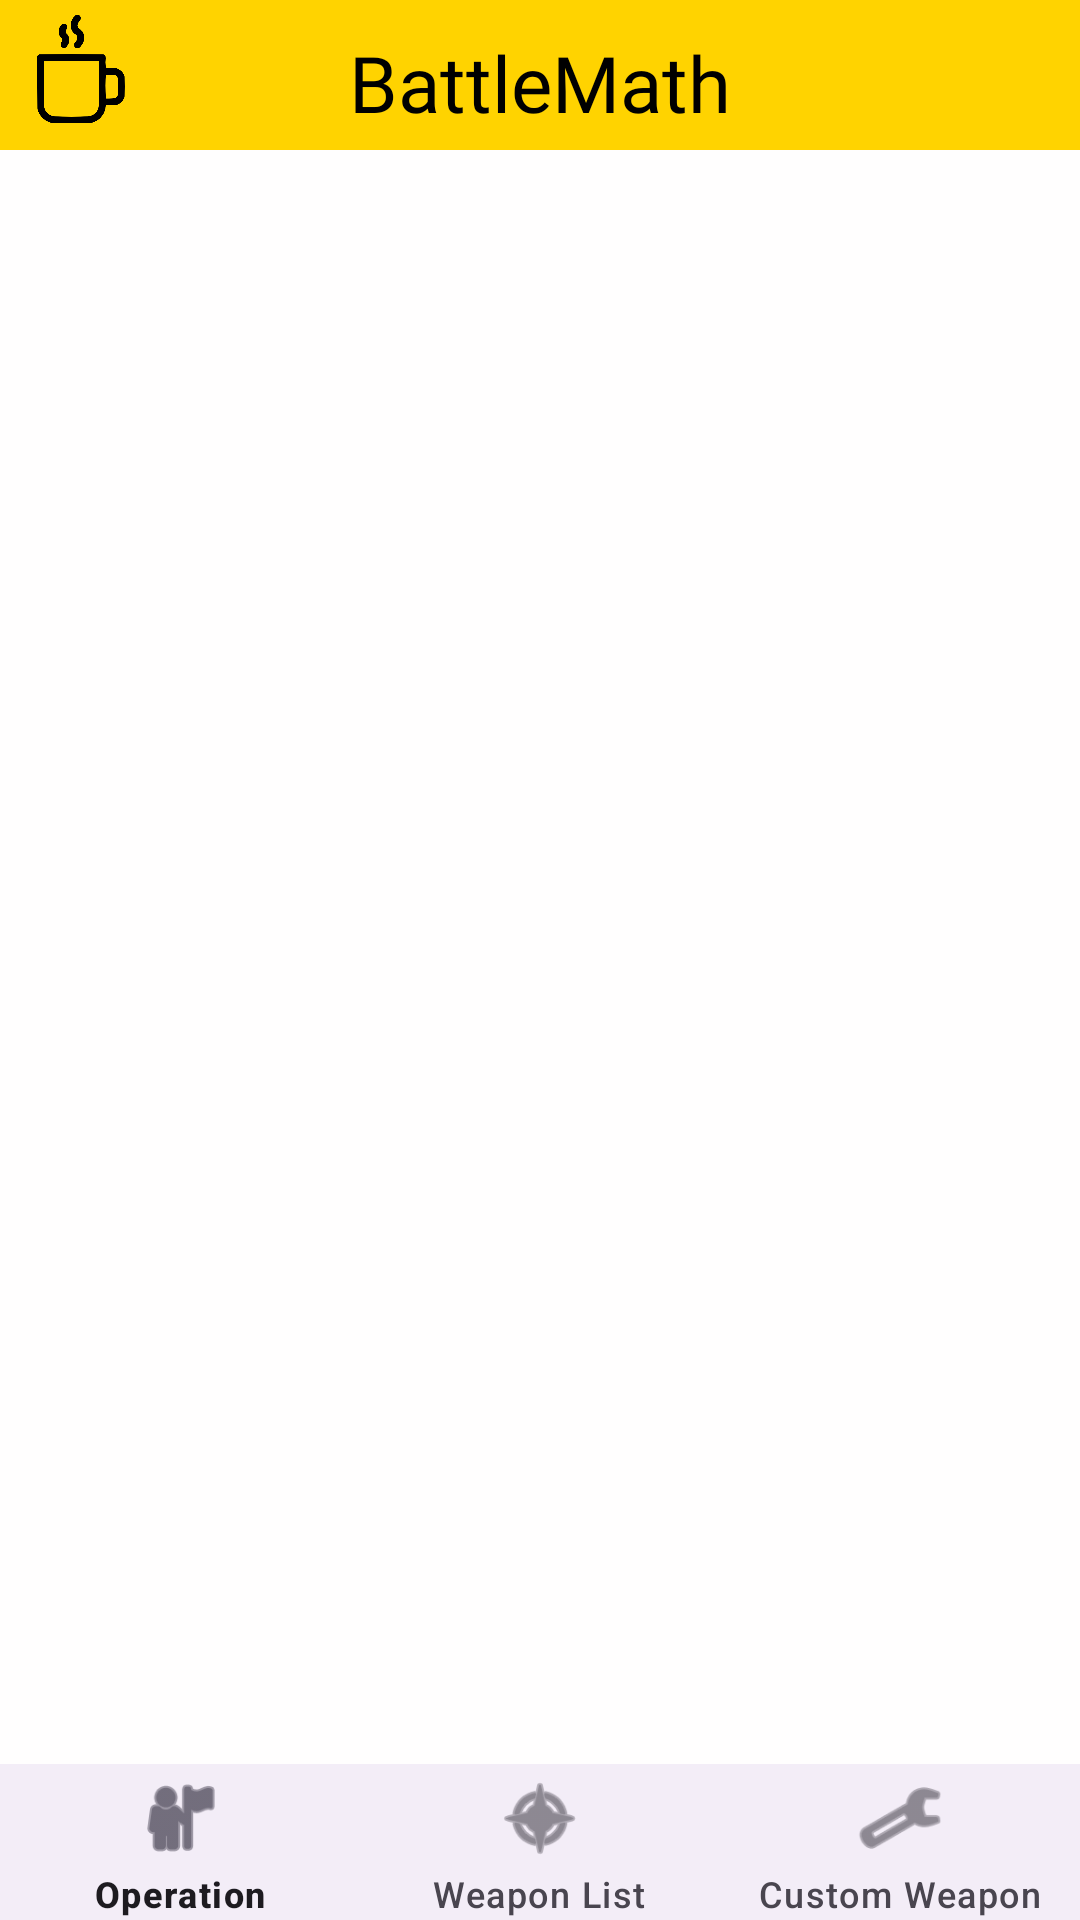

Where icons sit on this 1080x1920 app screen, as (x1, y1, x2, y2):
cup: (37, 15, 125, 123)
